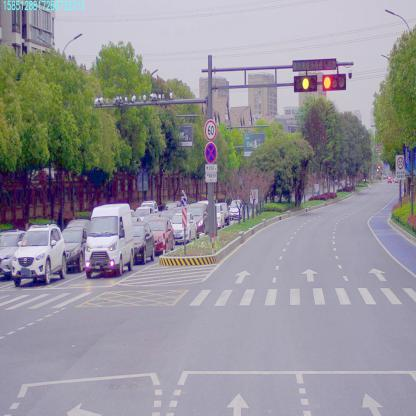traffic-light: (292, 75, 318, 95), (320, 72, 346, 90)
